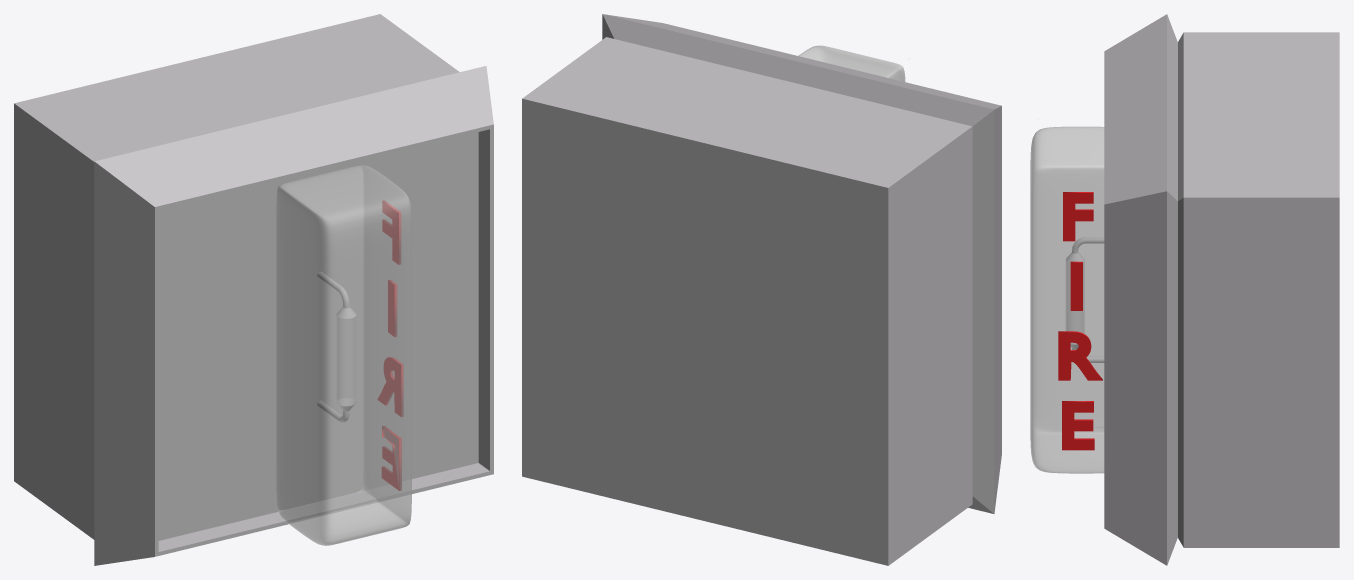
3 views of the same model, side by side, from view 1: azimuth 30°, elevation 25°; view 2: azimuth 150°, elevation 25°; view 3: azimuth 270°, elevation 25° (orthographic). The views are drawn at different scales.
Parts seen in each view (by area): view 1: Detector; view 2: Detector; view 3: Detector.
Boxes of the visible parts, left/top/right/bottom form: Detector: left=14, top=14, right=493, bottom=565; Detector: left=522, top=14, right=1001, bottom=565; Detector: left=1030, top=14, right=1339, bottom=565.
Bounding box in the file's own units: 0.1331 × 0.1313 × 0.0983.
